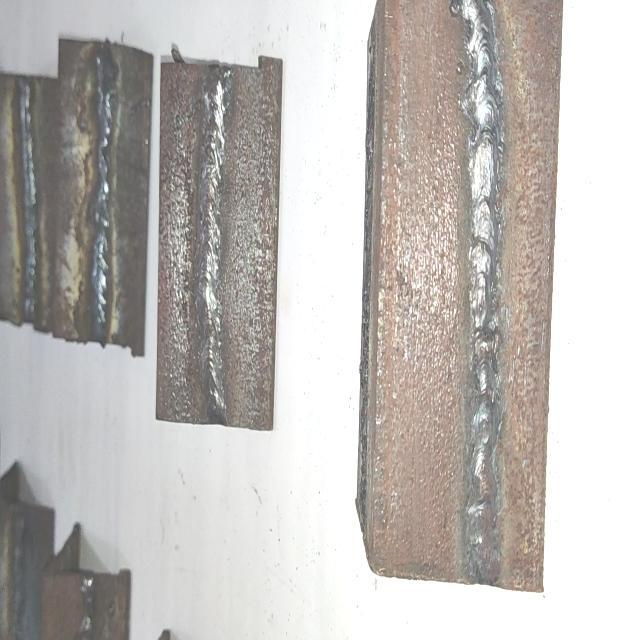Welding Line: (461, 0, 502, 568), (198, 68, 233, 418), (91, 50, 118, 336), (16, 81, 40, 317)
Workpiece: (350, 0, 566, 600), (151, 46, 287, 442), (56, 29, 154, 362), (0, 69, 62, 339)
